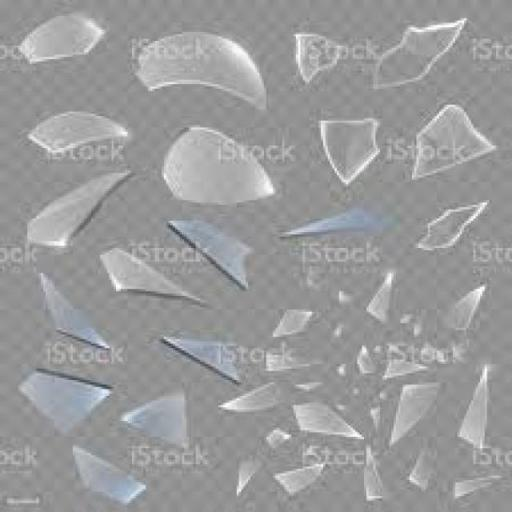glass: (132, 31, 266, 113), (160, 126, 274, 207), (26, 170, 132, 252), (304, 98, 394, 192), (16, 366, 113, 438), (370, 19, 465, 91), (98, 246, 211, 306), (410, 102, 496, 180), (166, 217, 256, 289), (36, 274, 112, 352), (26, 110, 129, 158), (17, 11, 106, 65), (279, 200, 397, 240), (71, 445, 146, 506), (158, 335, 246, 386), (118, 390, 190, 448), (416, 200, 489, 252), (386, 383, 440, 448), (458, 364, 492, 452), (290, 400, 364, 440), (294, 32, 348, 86), (219, 382, 291, 414), (443, 284, 487, 335), (273, 459, 327, 497), (362, 447, 393, 502), (366, 270, 396, 325), (450, 471, 504, 501), (379, 352, 431, 382), (263, 348, 320, 374), (270, 307, 316, 339), (408, 445, 436, 491), (236, 455, 262, 496), (356, 344, 378, 376), (265, 428, 292, 450), (294, 380, 324, 392), (337, 289, 356, 306)
